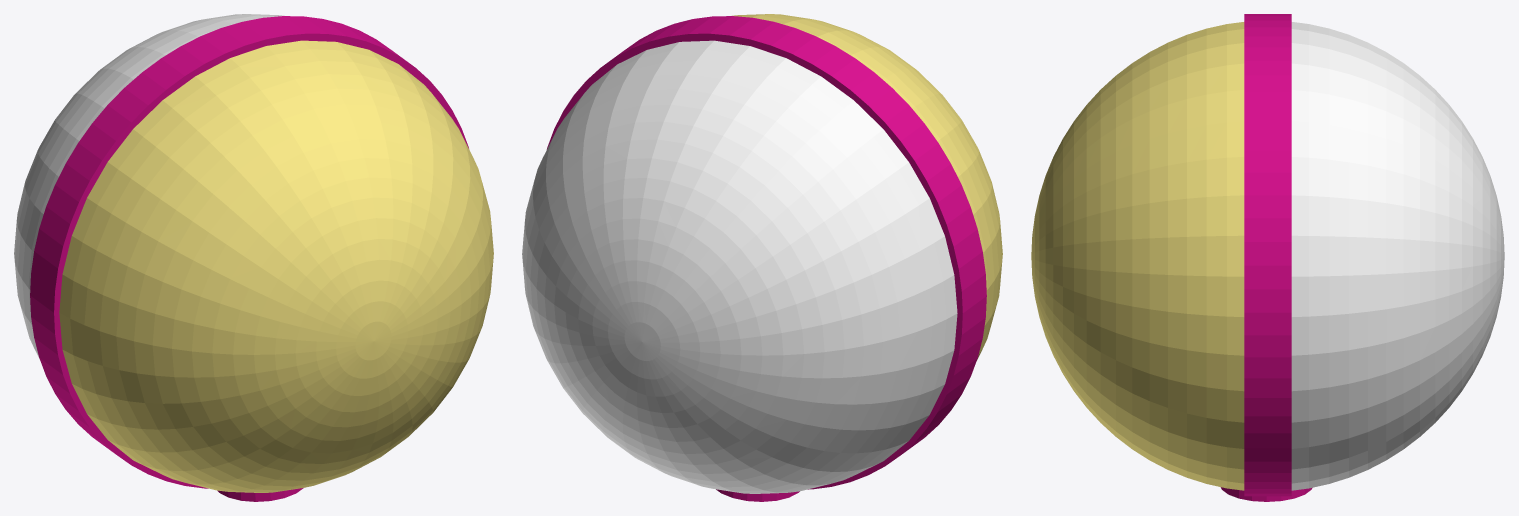
The model's file is tinker.obj.
The picture shows the model from 3 angles, left to right: view 1: azimuth 30°, elevation 25°; view 2: azimuth 150°, elevation 25°; view 3: azimuth 270°, elevation 25°; orthographic projection.
Visible parts, largest first — view 1: group_0_16246659, group_0_14093196, group_0_16448250; view 2: group_0_16448250, group_0_14093196, group_0_16246659; view 3: group_0_16246659, group_0_16448250, group_0_14093196.
Part boxes in pixels (x1=…): group_0_16246659: x1=59, y1=40, x2=493, y2=492; group_0_14093196: x1=30, y1=16, x2=468, y2=501; group_0_16448250: x1=14, y1=14, x2=284, y2=358; group_0_16448250: x1=522, y1=40, x2=957, y2=493; group_0_14093196: x1=546, y1=16, x2=986, y2=501; group_0_16246659: x1=732, y1=14, x2=1002, y2=359; group_0_16246659: x1=1031, y1=22, x2=1244, y2=490; group_0_16448250: x1=1291, y1=22, x2=1504, y2=490; group_0_14093196: x1=1220, y1=14, x2=1312, y2=501.
Size of the model in its own units: 20.4 by 21.03 by 20.
